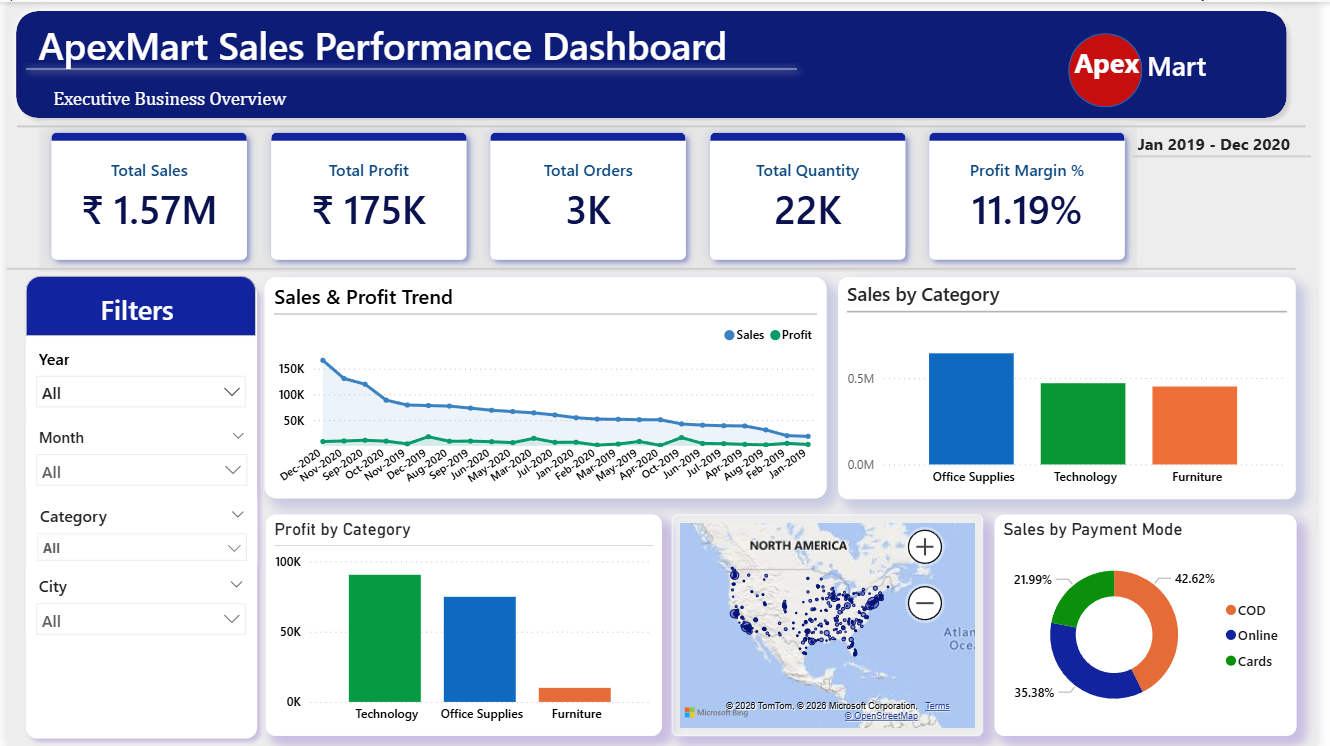

The page's visual inventory and layout, read from the dashboard file:
{"tool":"powerbi","page":{"name":"Page 1","canvas":[1301,741],"ordinal":0},"visuals":[{"type":"shape","box":[0,0,1280.1,124.2],"z":0},{"type":"textbox","box":[26.5,12.1,813.1,67.6],"z":1000},{"type":"textbox","box":[41,79.6,248.5,33.8],"z":2000},{"type":"shape","box":[1054.4,31.4,73.6,73.6],"z":3000},{"type":"textbox","box":[1047.5,37.5,88.8,75],"z":4000},{"type":"textbox","box":[1127.5,40,142.5,65],"z":5000},{"type":"shape","box":[10,55,783.8,23.8],"z":6000},{"type":"cardVisual","fields":{"Data":["Dim Date.Total Sales","Dim Date.Total Profit","Dim Date.Total Orders","Dim Date.Total Quantity","Dim Date.Profit Margin %"]},"box":[27.3,113,1100.1,160.2],"z":7000},{"type":"shape","box":[9.9,114.2,1280.1,18.6],"z":8000},{"type":"textbox","box":[1117.5,124.2,162.7,34.8],"z":9000},{"type":"shape","box":[1117.5,141.5,177.6,23.6],"z":10000},{"type":"lineChart","title":"Sales & Profit Trend","fields":{"Y":["Dim Date.Total Sales","Dim Date.Total Profit"],"Category":["Dim Date.Month-Year"]},"box":[256.2,273.8,558.8,220],"z":11000},{"type":"clusteredColumnChart","title":"Sales by Category","fields":{"Category":["JioMart_Sales_Dataset.Category"],"Y":["Dim Date.Total Sales"]},"box":[825.7,273.2,454.4,221],"z":12000},{"type":"shape","box":[0,257.5,1280,13.8],"z":13000},{"type":"clusteredColumnChart","title":"Profit by Category","fields":{"Category":["JioMart_Sales_Dataset.Category"],"Y":["Dim Date.Total Profit"]},"box":[257,509.1,393.6,219.8],"z":14000},{"type":"map","fields":{"Category":["JioMart_Sales_Dataset.City"],"Size":["Dim Date.Total Sales"]},"box":[660.5,509.1,309.2,219.8],"z":15000},{"type":"donutChart","title":"Sales by Payment Mode","fields":{"Category":["JioMart_Sales_Dataset.Payment Mode"],"Y":["Dim Date.Total Sales"]},"box":[981.2,508.8,300,220],"z":16000},{"type":"shape","box":[10,271.2,247.5,470],"z":17000},{"type":"slicer","fields":{"Values":["Dim Date.Month"]},"box":[18.6,417.2,229.7,65.8],"z":18000},{"type":"slicer","fields":{"Values":["JioMart_Sales_Dataset.Category"]},"box":[19.9,494.2,228.5,64.6],"z":19000},{"type":"slicer","fields":{"Values":["JioMart_Sales_Dataset.City"]},"box":[18.6,563.7,228.5,64.6],"z":20000},{"type":"slicer","fields":{"Values":["Dim Date.Year"]},"box":[18.8,337.5,228.8,65],"z":21000},{"type":"shape","box":[18.8,272.5,228.8,60],"z":22000},{"type":"textbox","box":[18.8,281.2,221.2,51.2],"z":23000}]}

Visuals, with their boxes in screenshot pixels (x1, y1, x2, y2), scaled from the page's 1301x741 canvas onto the 1330x746 screenshot:
shape: 0,0,1309,125
textbox: 27,12,858,80
textbox: 42,80,296,114
shape: 1078,32,1153,106
textbox: 1071,38,1162,113
textbox: 1153,40,1298,106
shape: 10,55,811,79
cardVisual - Dim Date.Total Sales x Dim Date.Total Profit: 28,114,1153,275
shape: 10,115,1319,134
textbox: 1142,125,1309,160
shape: 1142,142,1324,166
"Sales & Profit Trend" lineChart: 262,276,833,497
"Sales by Category" clusteredColumnChart: 844,275,1309,498
shape: 0,259,1309,273
"Profit by Category" clusteredColumnChart: 263,513,665,734
map - JioMart_Sales_Dataset.City x Dim Date.Total Sales: 675,513,991,734
"Sales by Payment Mode" donutChart: 1003,512,1310,734
shape: 10,273,263,745
slicer - Dim Date.Month: 19,420,254,486
slicer - JioMart_Sales_Dataset.Category: 20,498,254,563
slicer - JioMart_Sales_Dataset.City: 19,568,253,633
slicer - Dim Date.Year: 19,340,253,405
shape: 19,274,253,335
textbox: 19,283,245,335
